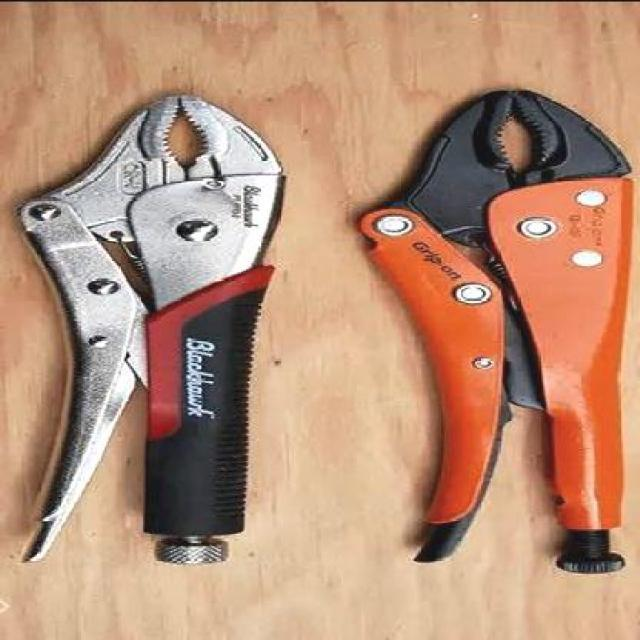pliers: (21, 90, 288, 564)
